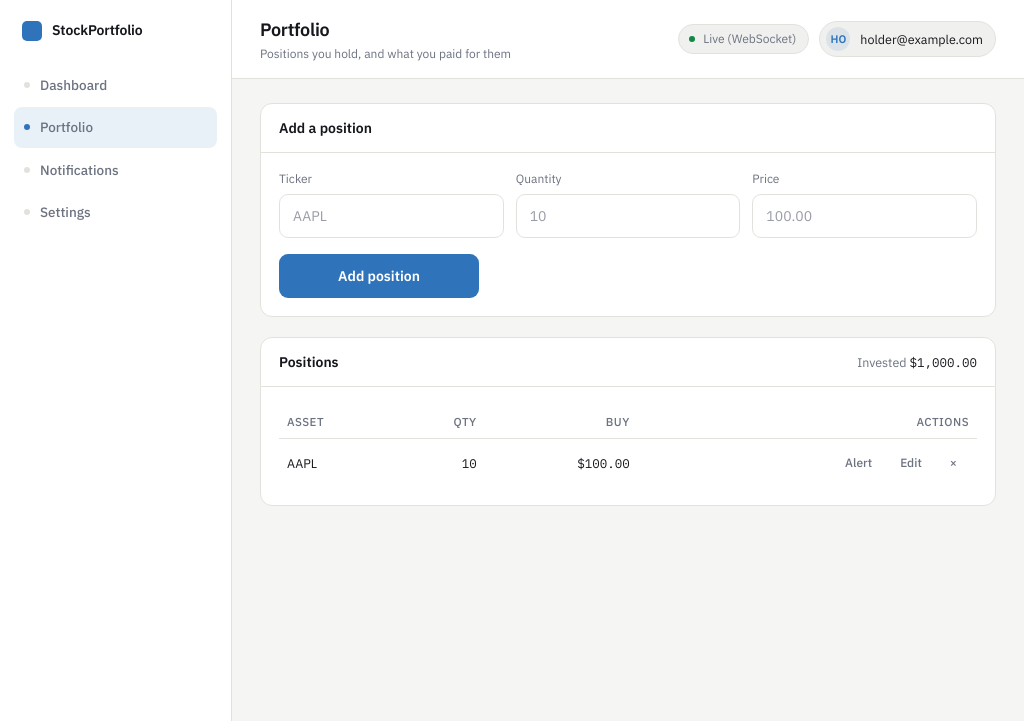
Scenario: portfolio › restores the row and reports the failure when a correction fails
Check: the heading "Portfolio" is shown, box [260,18,330,41]
Click the button with aria-label "edit aapl".
click(911, 463)  # box [888,449,934,477]
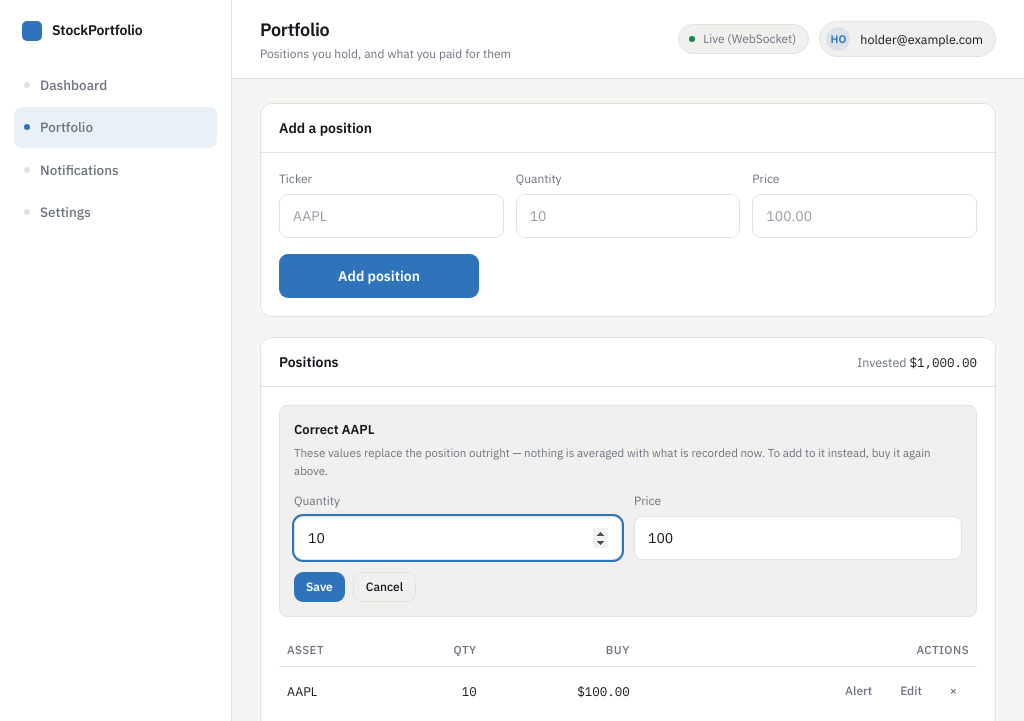
Replace the text in the number field labelled "Quantity" below "Correct AAPL" with "15" at [458, 538], box [294,516,622,560]
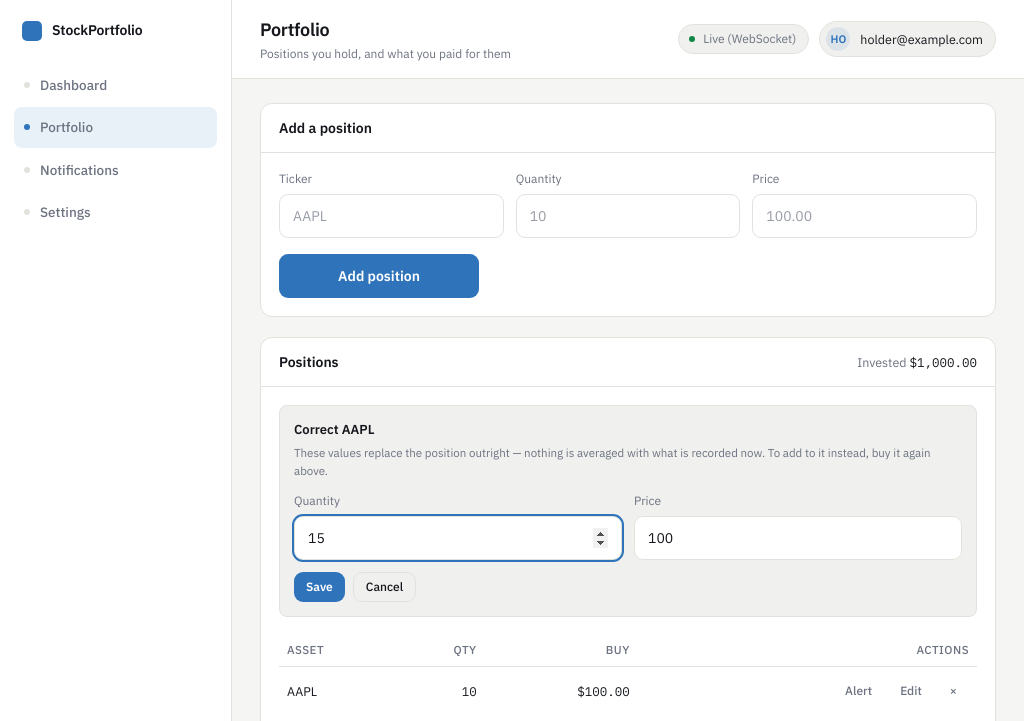
Click the button "Save".
click(319, 587)  # box [294,572,345,602]
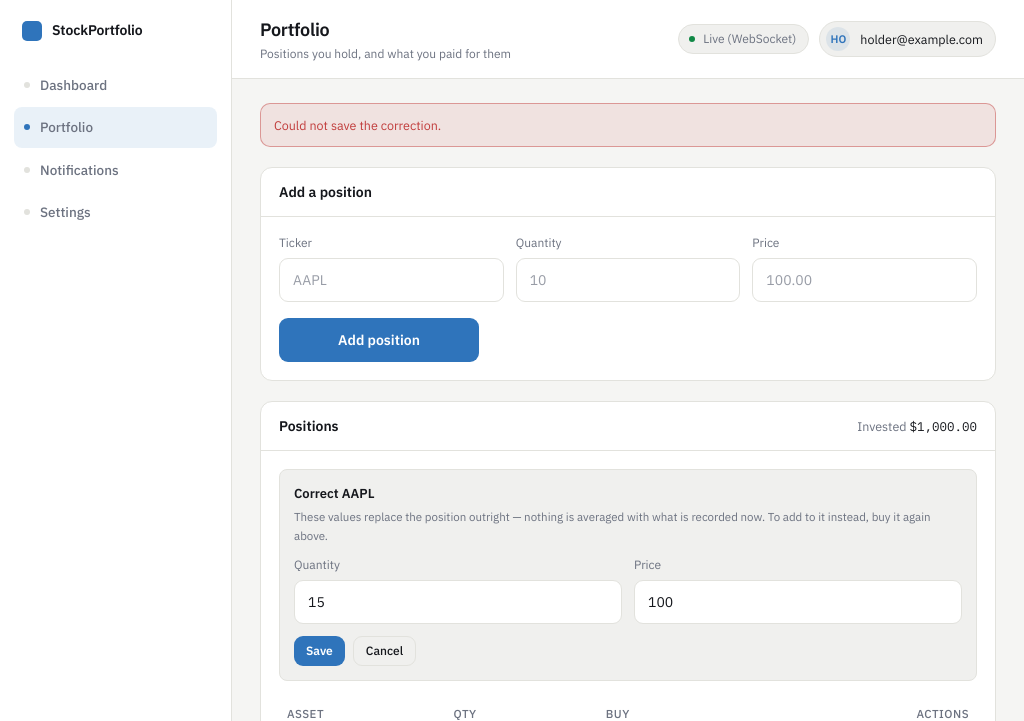
Check: the message shows "Could not save the correction", box [274,117,441,133]
